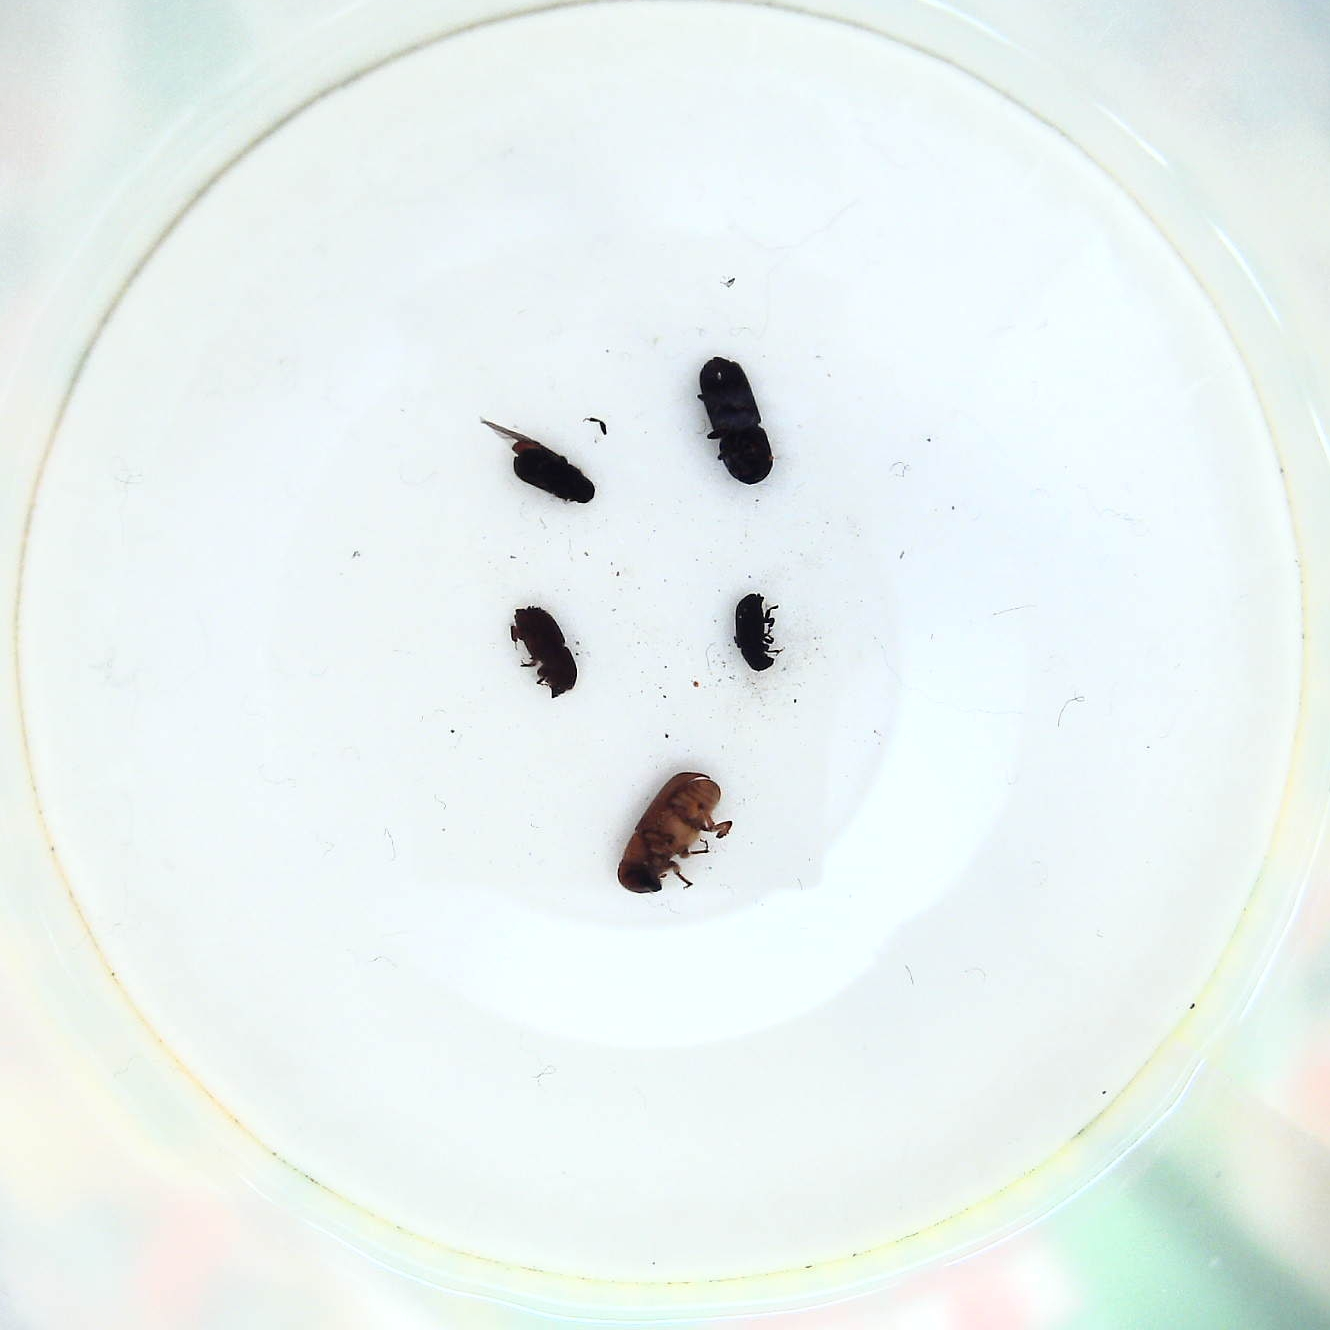Boerner: (689, 351, 779, 490)
Leconte: (611, 764, 734, 900)
armandi: (482, 417, 596, 510)
coleoptera: (731, 588, 782, 676)
linnaeus: (505, 603, 579, 700)
